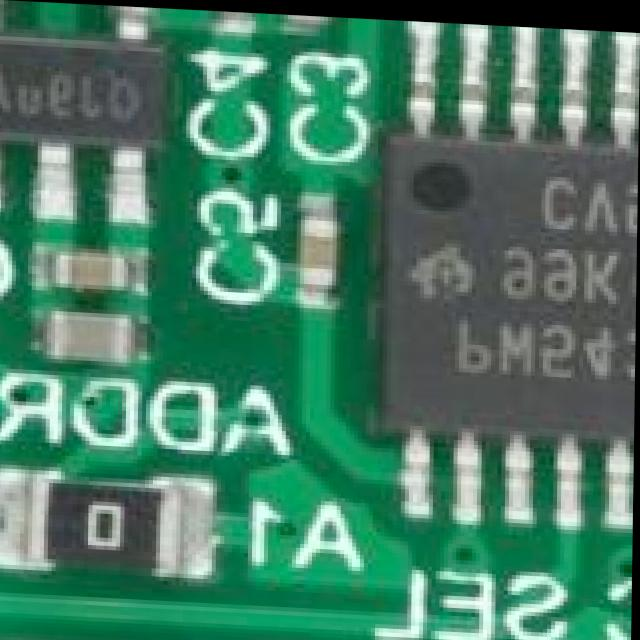IC: (363, 63, 639, 478), (0, 0, 160, 187)
capacitor: (38, 310, 136, 368), (43, 246, 133, 298), (297, 212, 338, 294), (280, 11, 336, 18), (212, 9, 256, 14)
resistor: (15, 477, 198, 580)
